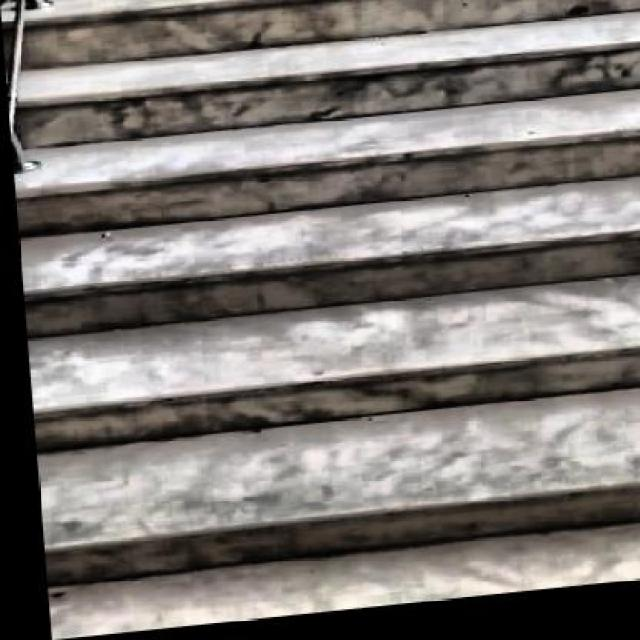stair: (0, 0, 638, 614)
